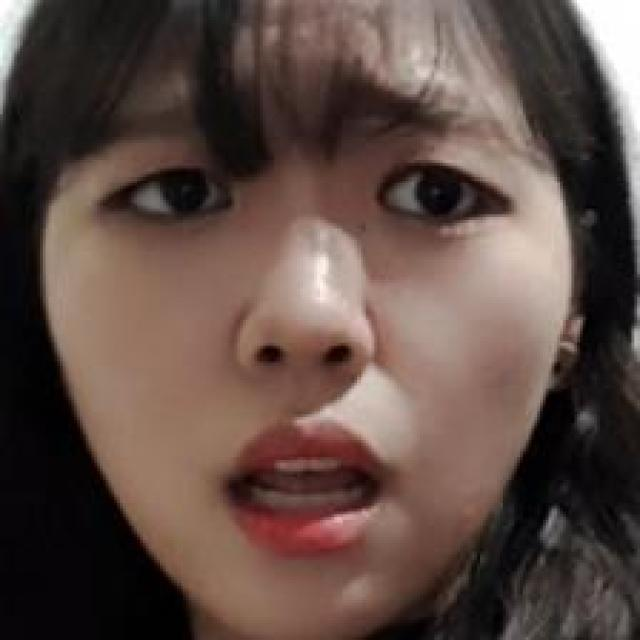fear: (43, 60, 545, 594)
